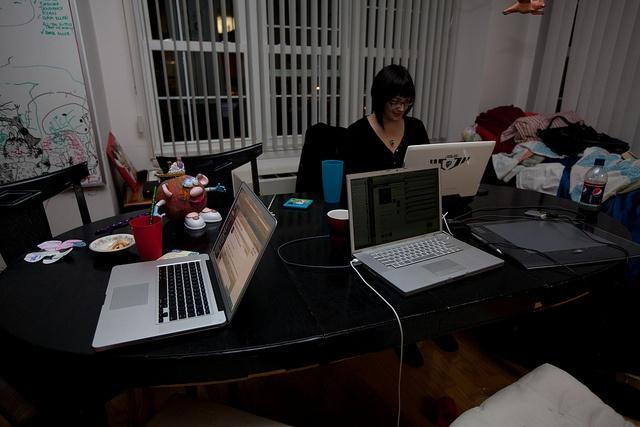Whiteboard: (0, 0, 106, 195)
